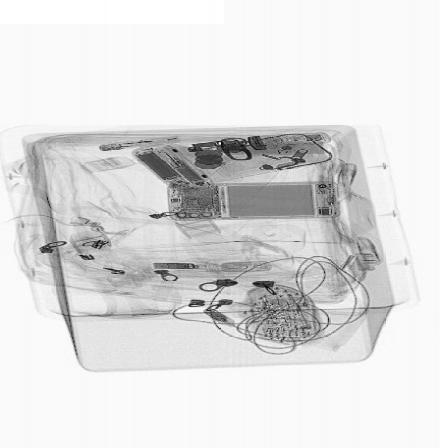Lighter: (97, 135, 183, 152)
